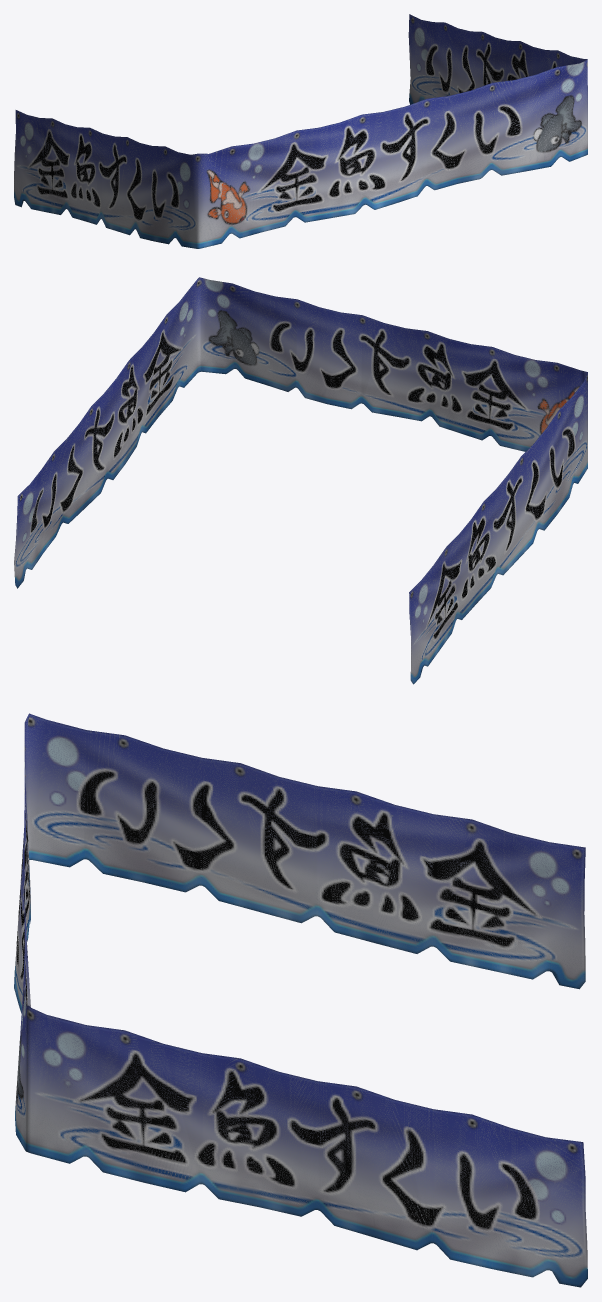
The model's file is jsf_ShopCurtain_GoldfishScooping_01.fbx.
3 renders of one model, top to bottom at view 1: azimuth 30°, elevation 25°; view 2: azimuth 150°, elevation 25°; view 3: azimuth 270°, elevation 25°, orthographic. The views are drawn at different scales.
Parts seen in each view (by area): view 1: jsf_ShopCurtain_GoldfishScooping_01; view 2: jsf_ShopCurtain_GoldfishScooping_01; view 3: jsf_ShopCurtain_GoldfishScooping_01.
Part boxes in pixels (x1,y1,x2,y2): jsf_ShopCurtain_GoldfishScooping_01: [14, 14, 587, 248]; jsf_ShopCurtain_GoldfishScooping_01: [14, 277, 587, 684]; jsf_ShopCurtain_GoldfishScooping_01: [14, 713, 587, 1287].
Bounding box in the file's own units: 269 × 116 × 216.
